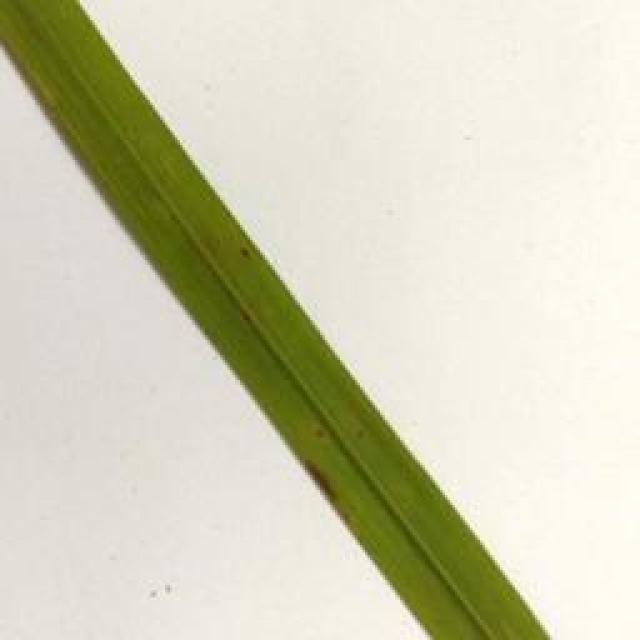Brown_Spot: (286, 451, 340, 530), (306, 414, 333, 444), (349, 414, 370, 444), (240, 242, 254, 269), (238, 316, 252, 326)
